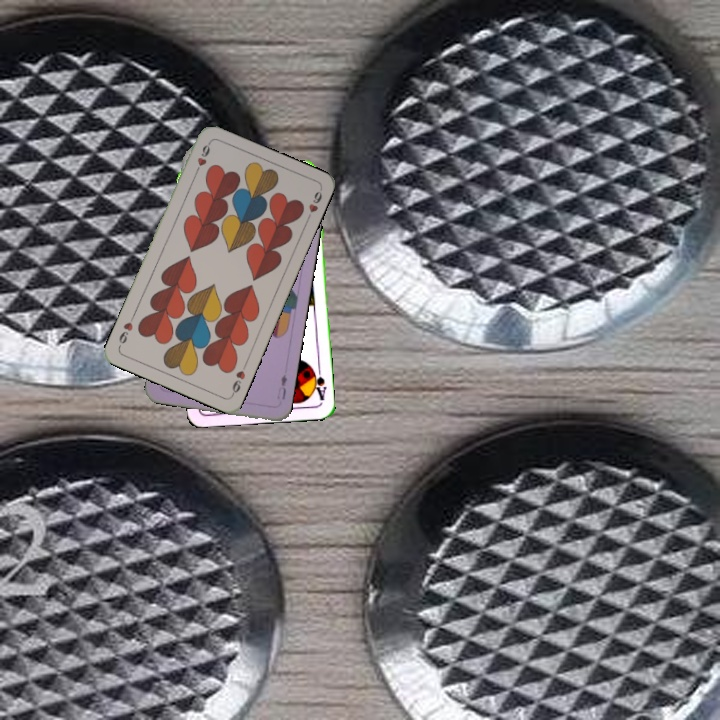EU: (273, 370, 290, 402)
H9: (227, 359, 249, 398), (191, 139, 213, 177)
SA: (308, 363, 329, 403)
